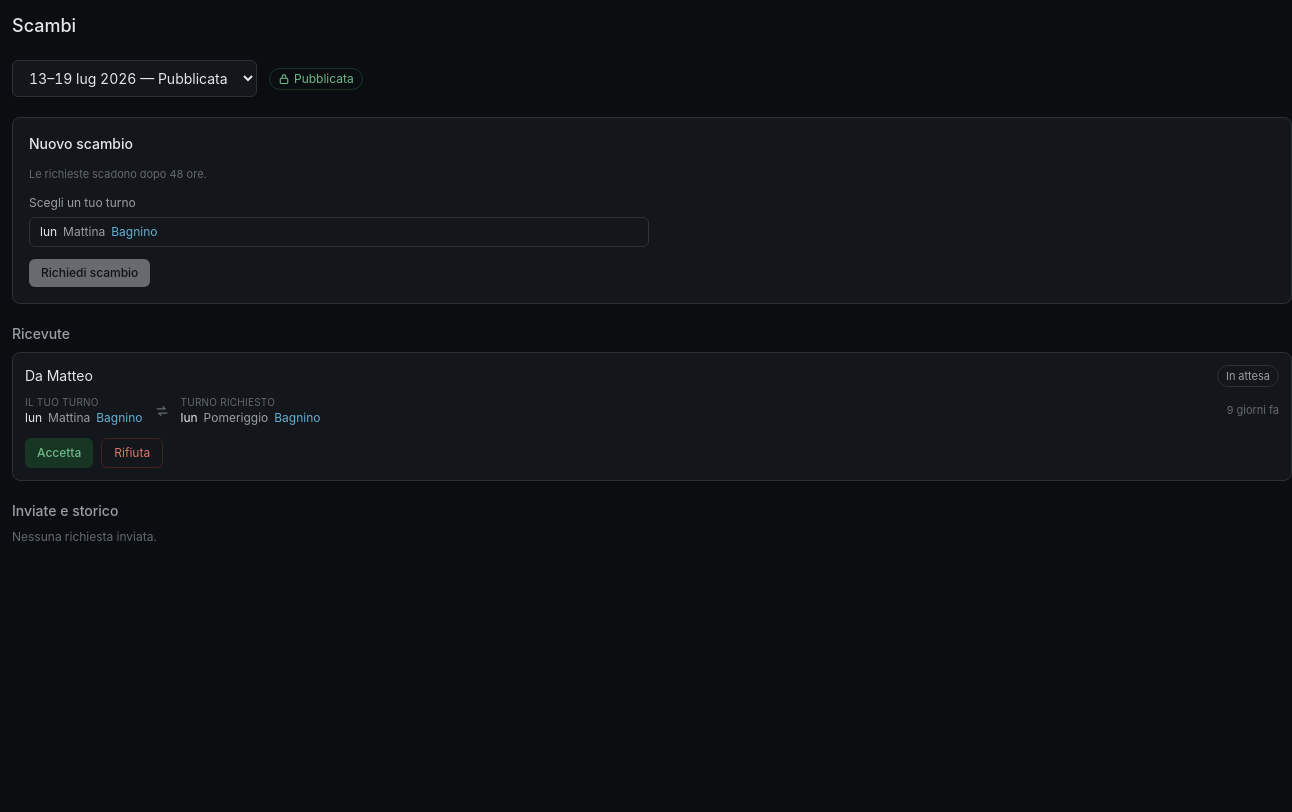
a server refusal surfaces through the dictionary, not as a raw code
Click the button "Accetta" at (59, 453), box [25,438,93,468]
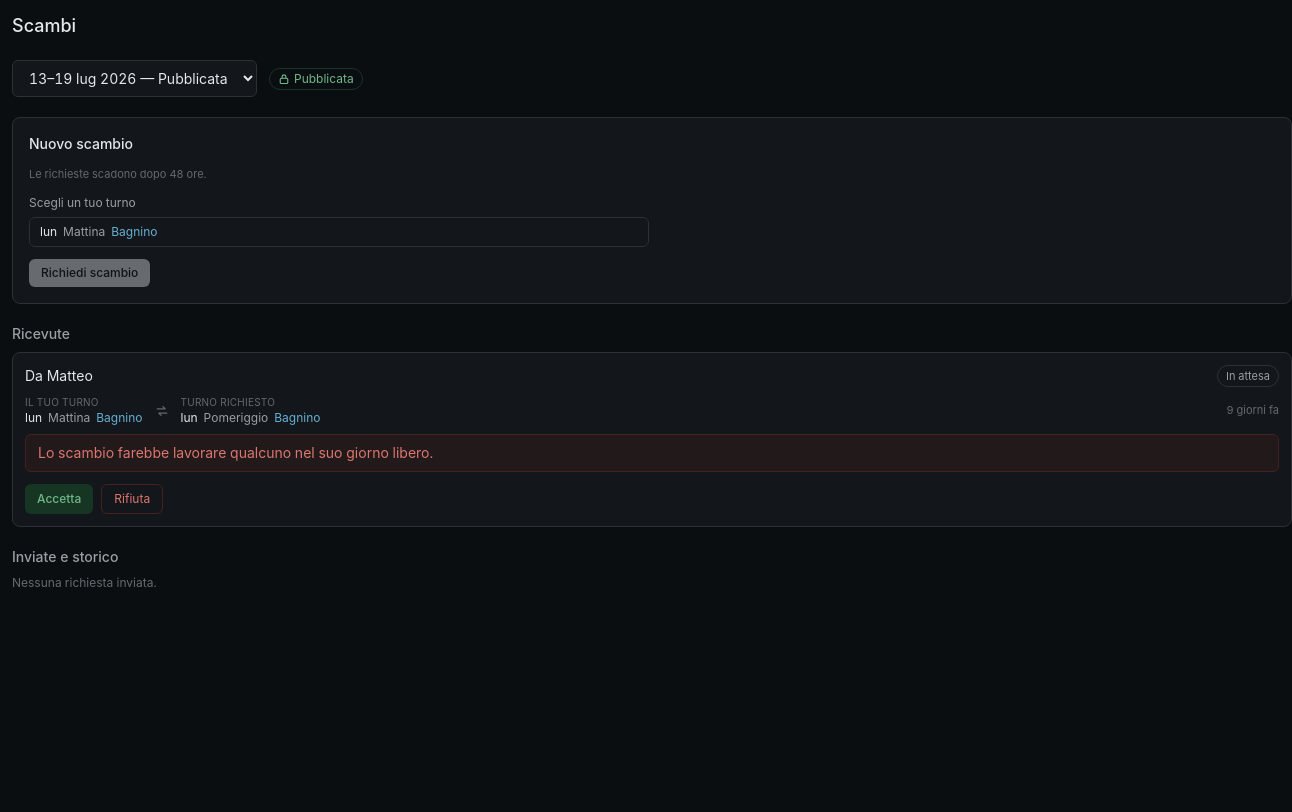
Now the text "Lo scambio farebbe lavorare qualcuno nel suo giorno libero." is shown, box [38,443,433,463]
